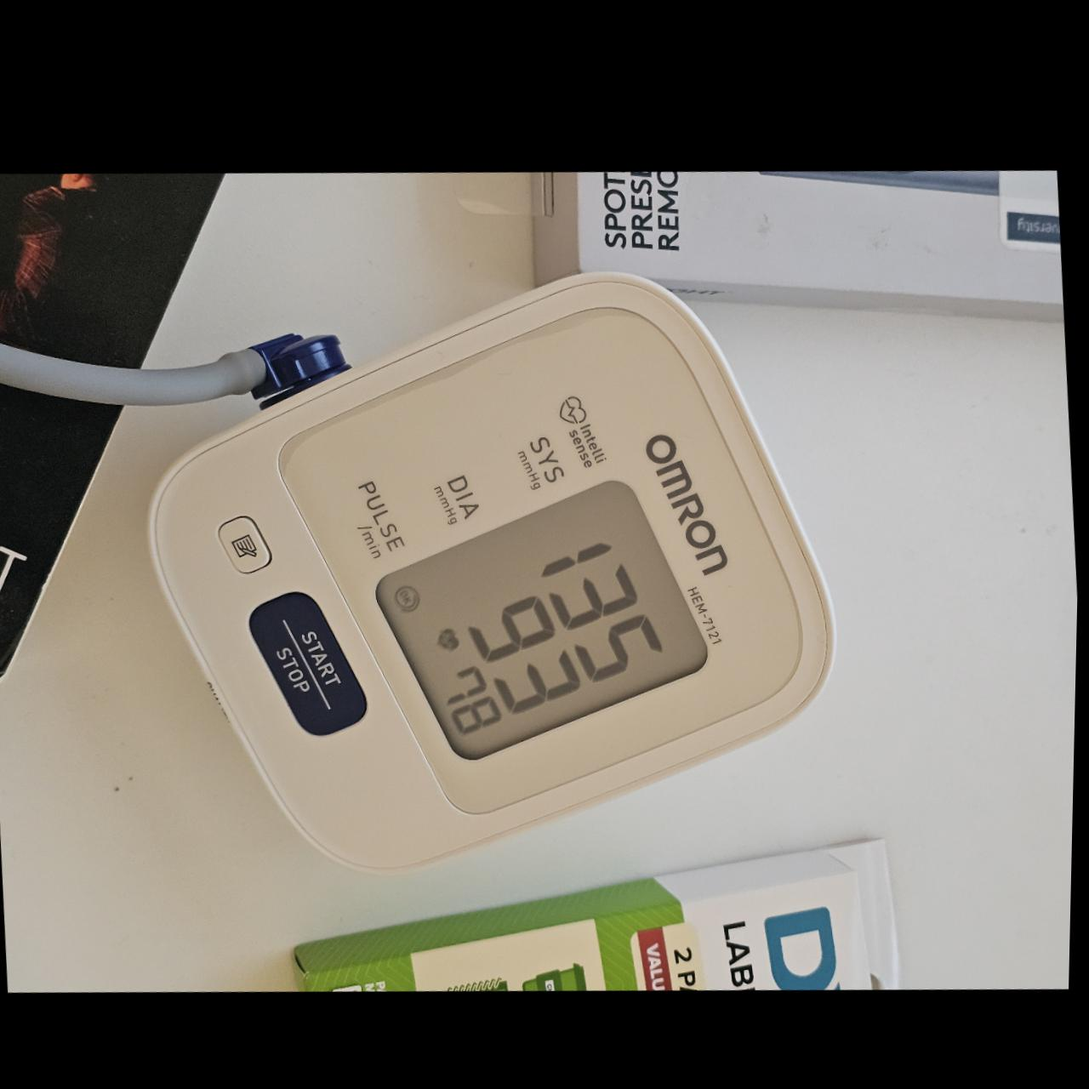blood pressure monitor: (116, 222, 866, 921)
